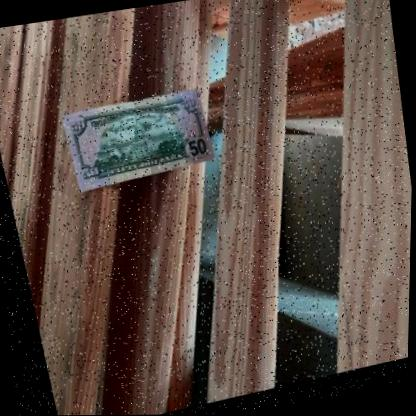fifty-back: (58, 86, 214, 197)
